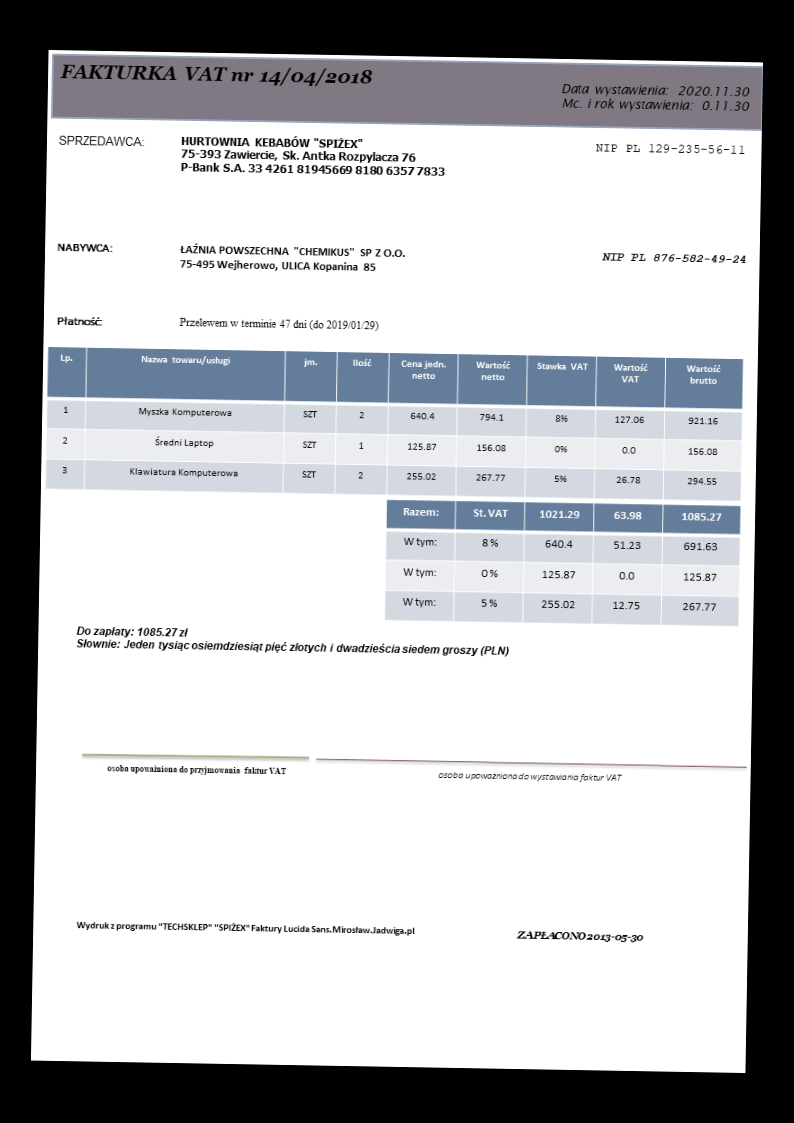Table: (43, 345, 745, 500), (382, 499, 741, 627)
TextBox: (73, 623, 512, 661), (179, 134, 447, 181), (57, 59, 377, 92), (176, 242, 408, 275), (73, 917, 418, 939), (558, 80, 755, 115), (177, 314, 381, 333), (102, 761, 289, 779), (435, 768, 623, 784), (592, 140, 746, 158), (599, 249, 747, 267), (514, 928, 646, 946), (56, 131, 146, 149), (53, 240, 114, 255), (53, 314, 105, 329)
